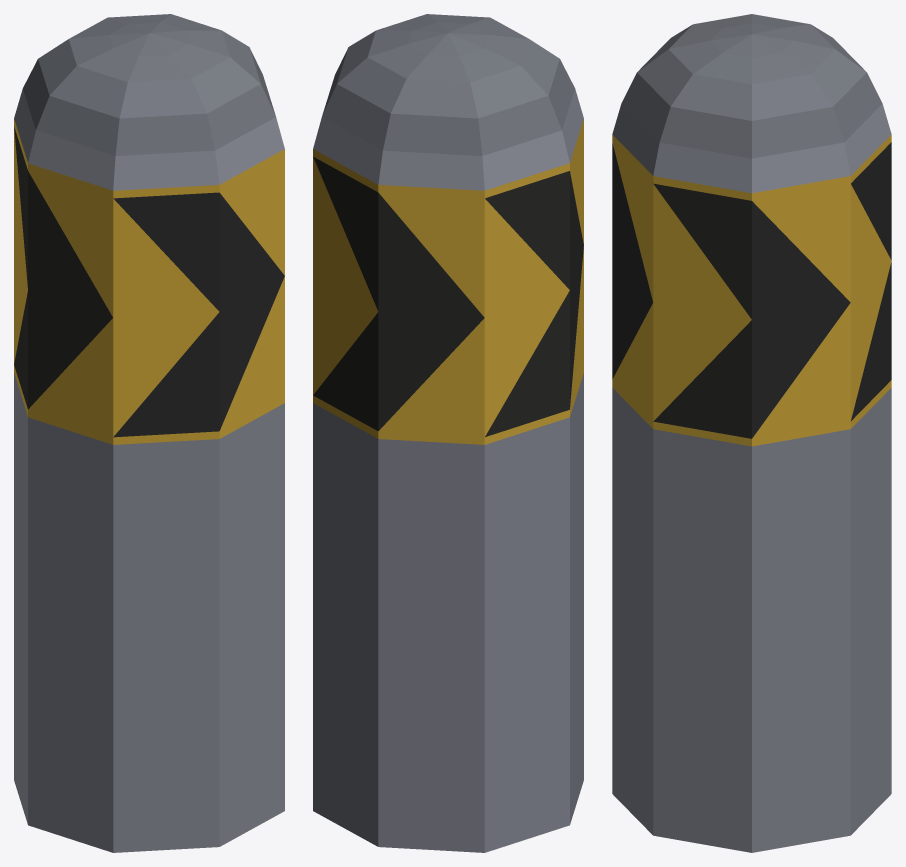
The model's file is bollardStone.fbx.
3 renders of one model, left to right at view 1: azimuth 30°, elevation 25°; view 2: azimuth 150°, elevation 25°; view 3: azimuth 270°, elevation 25°, orthographic.
Visible parts, largest first — view 1: bollardStone; view 2: bollardStone; view 3: bollardStone.
Boxes of the visible parts, box(x1,y1,x2,y2) form: bollardStone: box(14, 14, 284, 852); bollardStone: box(313, 14, 583, 852); bollardStone: box(612, 14, 891, 852).
Size of the model in its own units: 30 by 90 by 30.
Materials: 1 (1 with a texture image).
